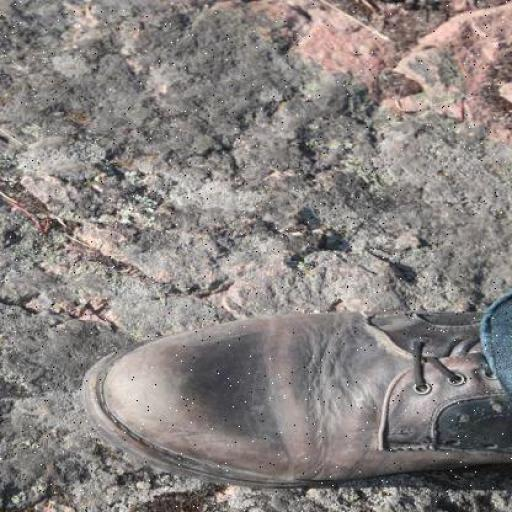safety_shoe: (90, 305, 511, 480)
